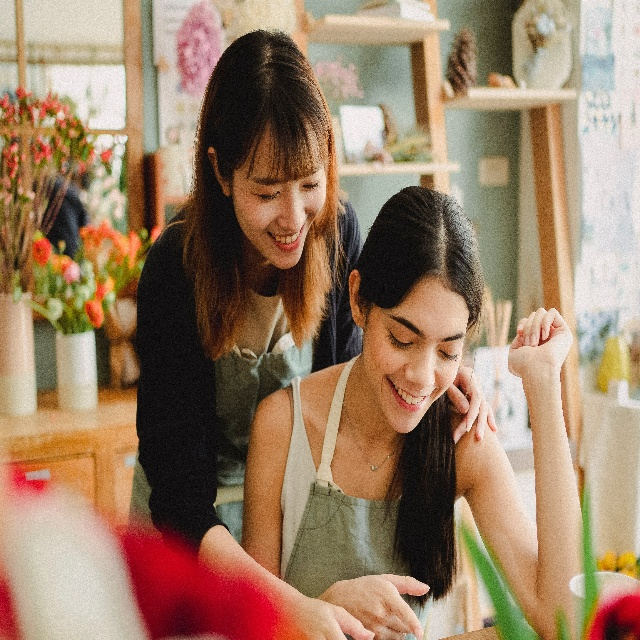Sin_guantes: (340, 563, 429, 640), (509, 310, 574, 387), (447, 365, 498, 449), (304, 594, 376, 640)
